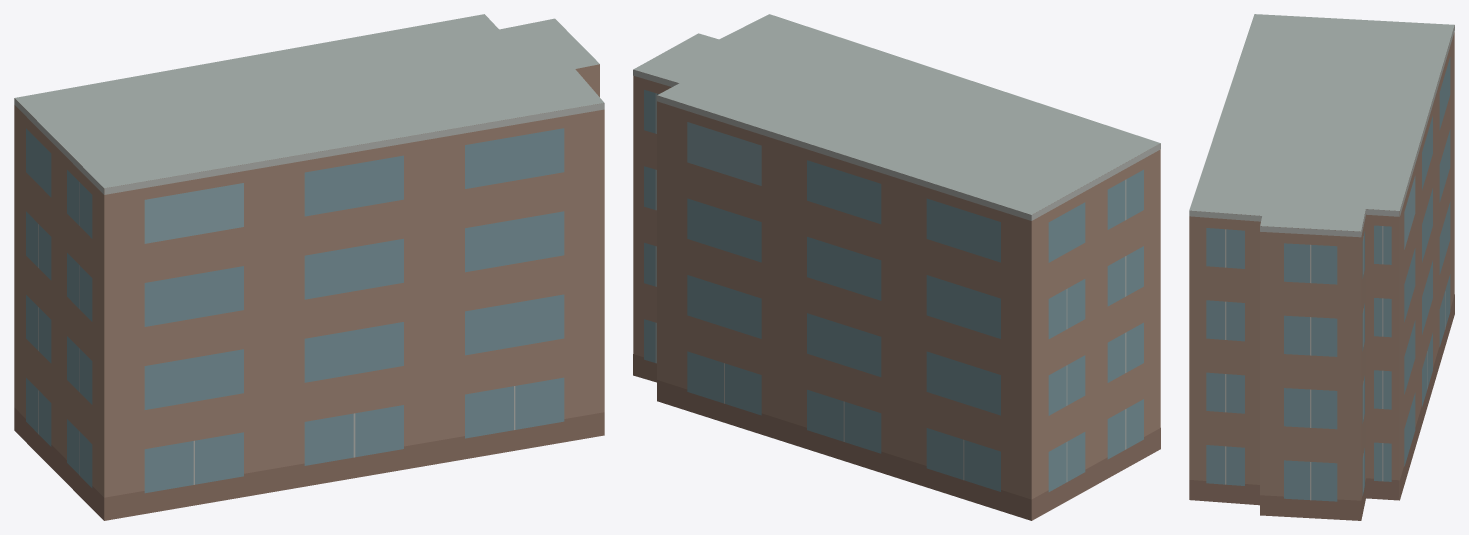
The model's file is survey-upis-32662475.glb.
3 views of the same model, side by side, from view 1: azimuth 30°, elevation 25°; view 2: azimuth 150°, elevation 25°; view 3: azimuth 270°, elevation 25° (orthographic). The views are drawn at different scales.
Visible parts, largest first — view 1: survey-upis-32662475.tmp; view 2: survey-upis-32662475.tmp; view 3: survey-upis-32662475.tmp.
Part boxes in pixels (x1,y1,x2,y2): survey-upis-32662475.tmp: (14, 14, 604, 520); survey-upis-32662475.tmp: (633, 14, 1160, 520); survey-upis-32662475.tmp: (1189, 14, 1454, 520).
Size of the model in its own units: 19.67 by 12.2 by 10.16.
